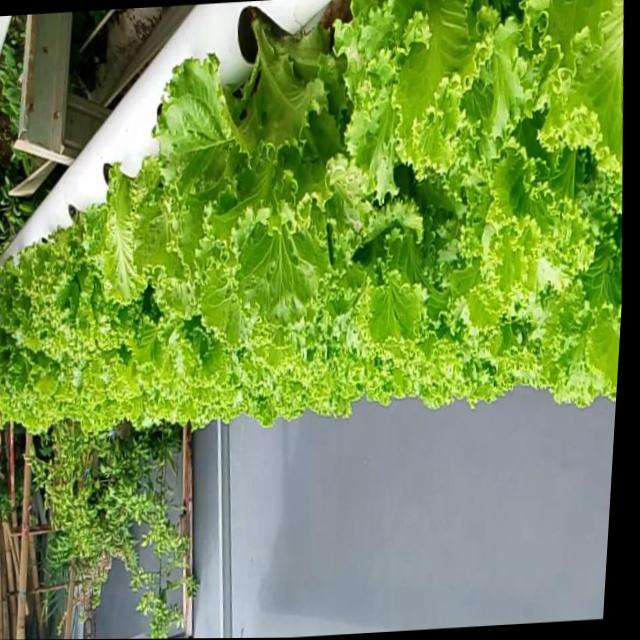Mature: (0, 0, 623, 441), (141, 6, 362, 338), (18, 199, 125, 363)
